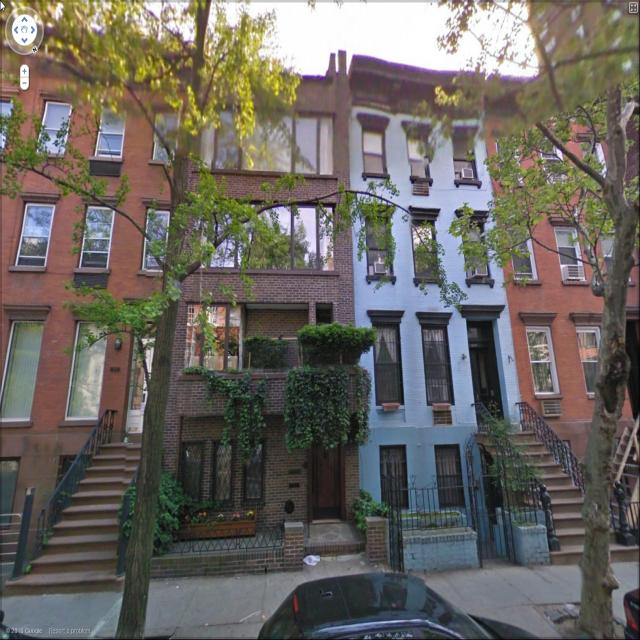b_2: (0, 32, 200, 541), (175, 61, 371, 515), (351, 58, 518, 491), (480, 80, 631, 458)
